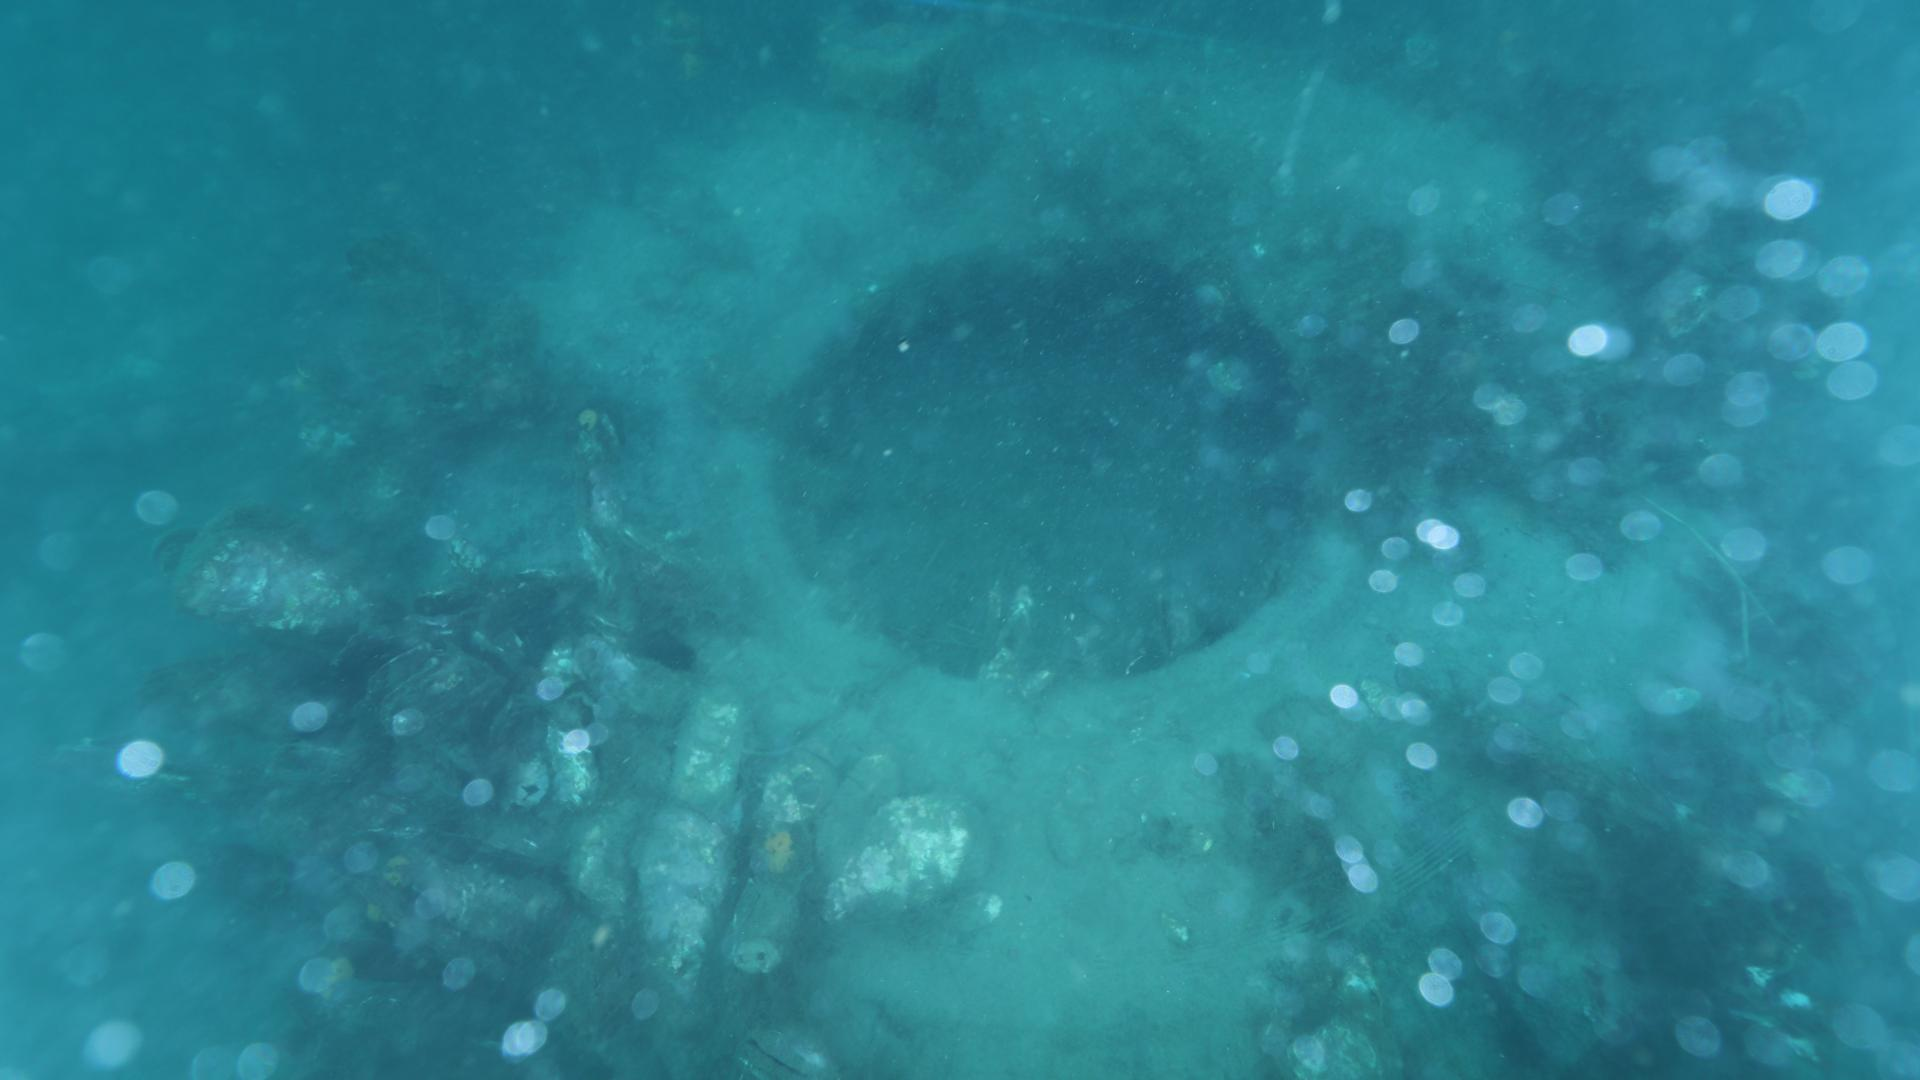tire: (451, 44, 1734, 1080)
